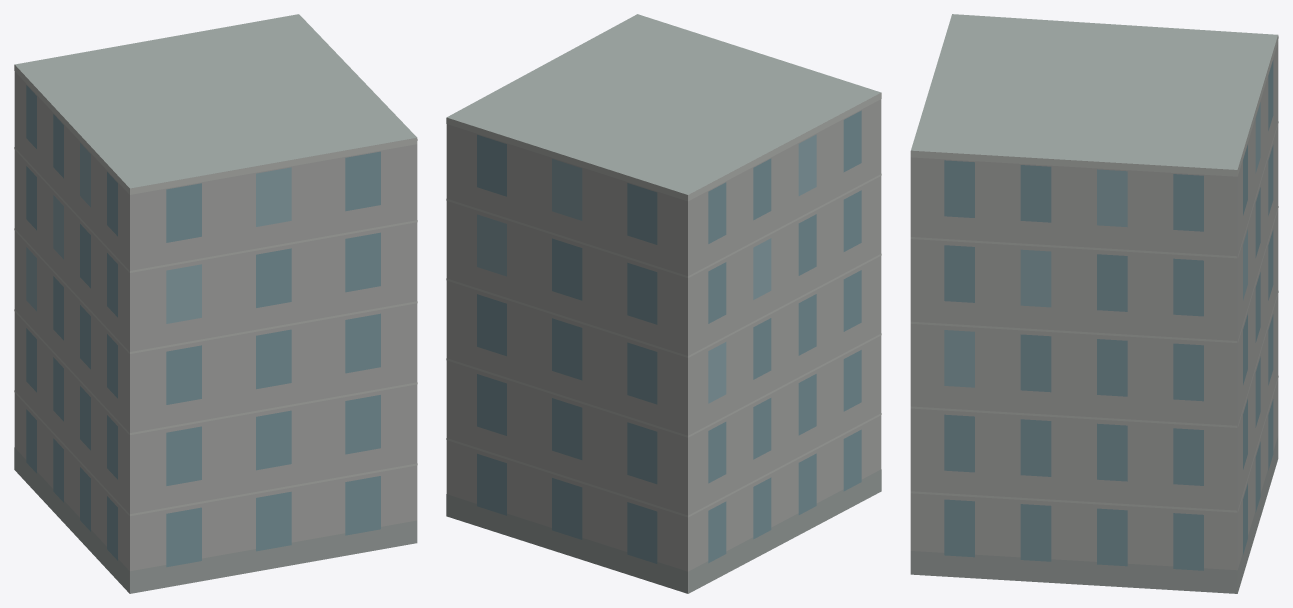
The model's file is residential-3823f5f7-c2a7-4a1d-8fb1-17c94af104e4.glb.
3 views of the same model, side by side, from view 1: azimuth 30°, elevation 25°; view 2: azimuth 150°, elevation 25°; view 3: azimuth 270°, elevation 25° (orthographic). The views are drawn at different scales.
Visible parts, largest first — view 1: residential-3823f5f7-c2a7-4a1d-8fb1-17c94af104e4.tmp; view 2: residential-3823f5f7-c2a7-4a1d-8fb1-17c94af104e4.tmp; view 3: residential-3823f5f7-c2a7-4a1d-8fb1-17c94af104e4.tmp.
Part boxes in pixels (left/top/right/bottom): residential-3823f5f7-c2a7-4a1d-8fb1-17c94af104e4.tmp: left=14, top=14, right=417, bottom=593; residential-3823f5f7-c2a7-4a1d-8fb1-17c94af104e4.tmp: left=446, top=14, right=881, bottom=593; residential-3823f5f7-c2a7-4a1d-8fb1-17c94af104e4.tmp: left=910, top=14, right=1278, bottom=593.
Bounding box in the file's own units: 12.06 × 15.25 × 12.01.
